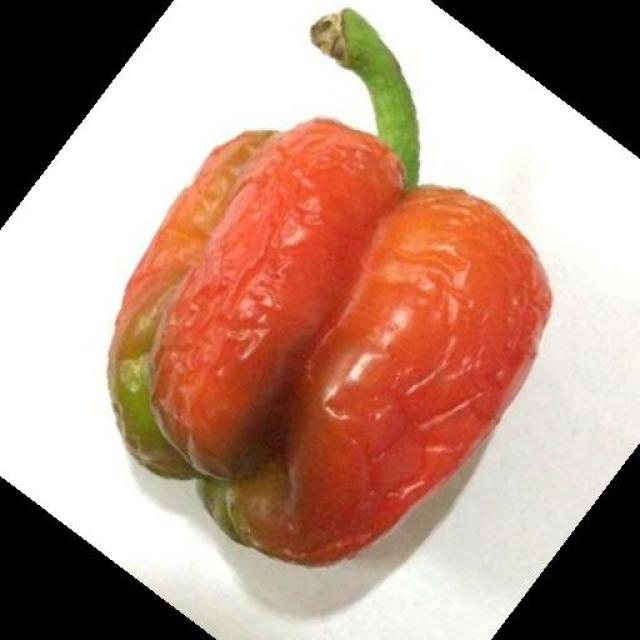Stale_Capsicum: (122, 2, 536, 580)
